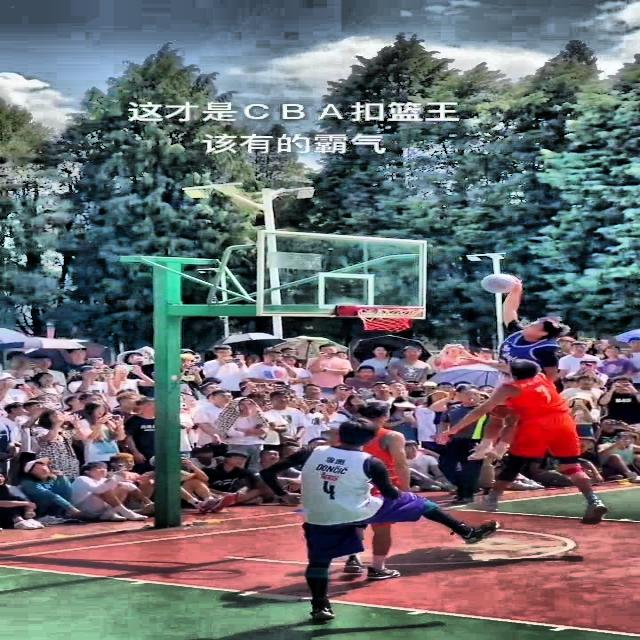rim: (357, 305, 425, 332)
